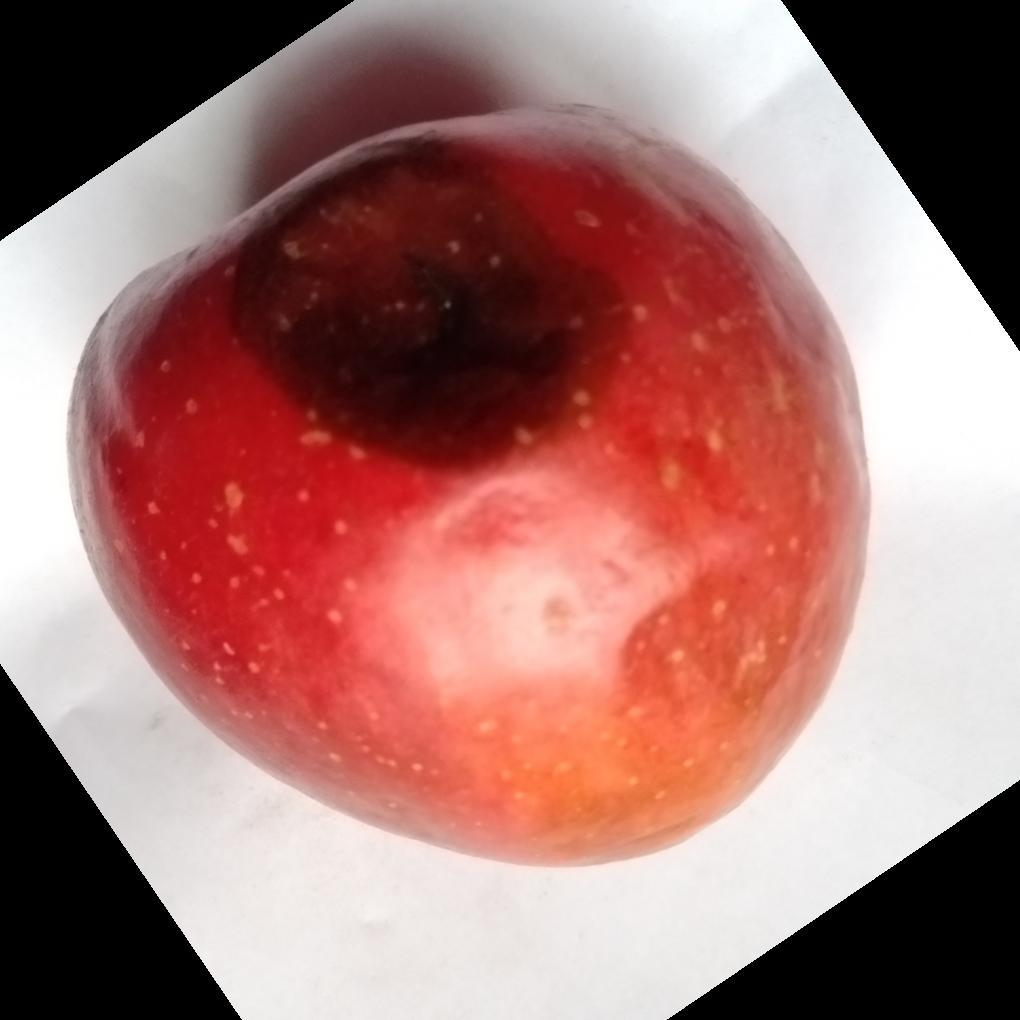FreshOrange: (64, 106, 873, 873)
